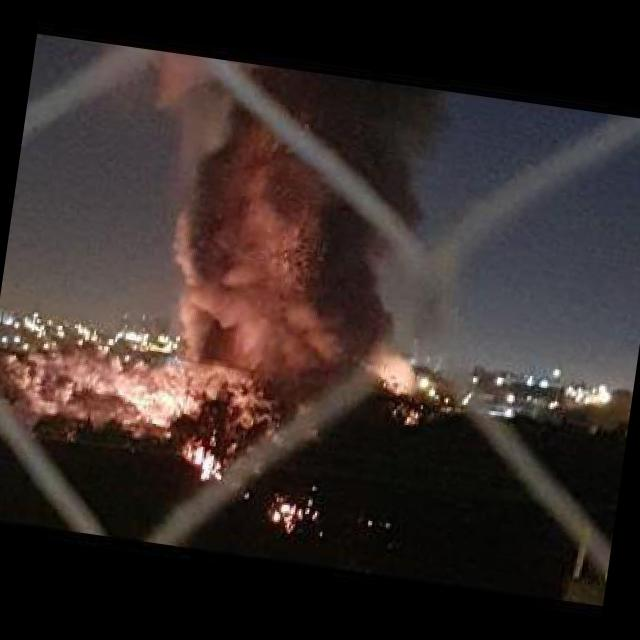Fire: (108, 368, 198, 433), (173, 438, 231, 483), (264, 494, 306, 534)
Smoke: (167, 48, 411, 414)
